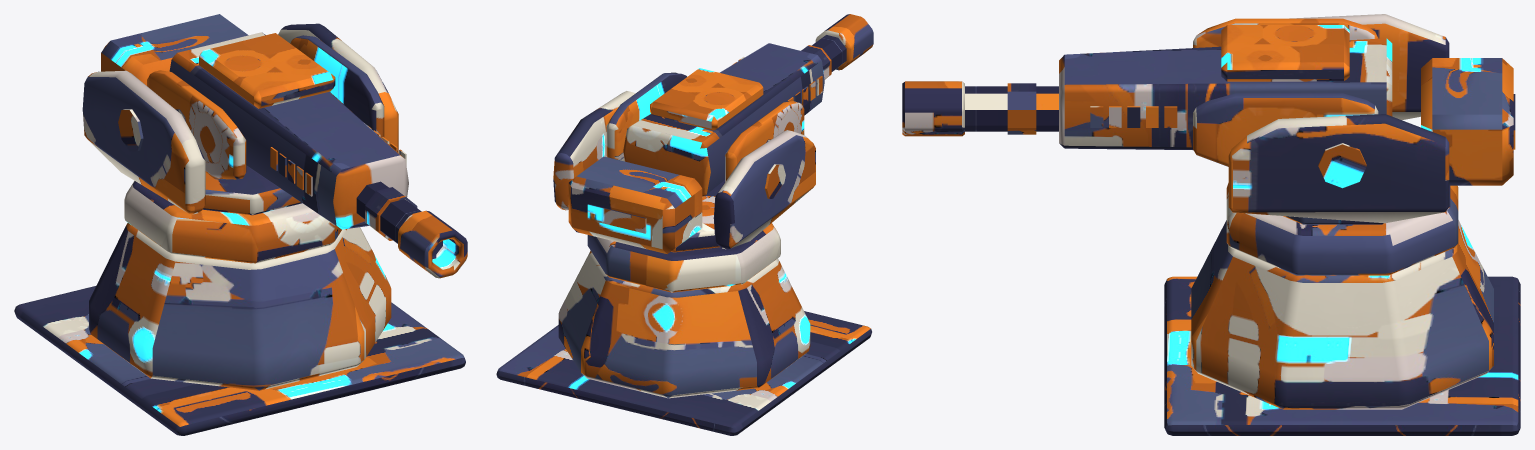
The model's file is R4W_Basic_LOD1.fbx.
3 renders of one model, left to right at view 1: azimuth 30°, elevation 25°; view 2: azimuth 150°, elevation 25°; view 3: azimuth 270°, elevation 25°, orthographic. The views are drawn at different scales.
Parts seen in each view (by area): view 1: R4W_Basic_LOD1; view 2: R4W_Basic_LOD1; view 3: R4W_Basic_LOD1.
Boxes of the visible parts, bbox=[...] form: R4W_Basic_LOD1: bbox=[14, 14, 467, 435]; R4W_Basic_LOD1: bbox=[496, 14, 873, 435]; R4W_Basic_LOD1: bbox=[902, 14, 1520, 435].
Size of the model in its own units: 0.5 by 0.496 by 0.868.
